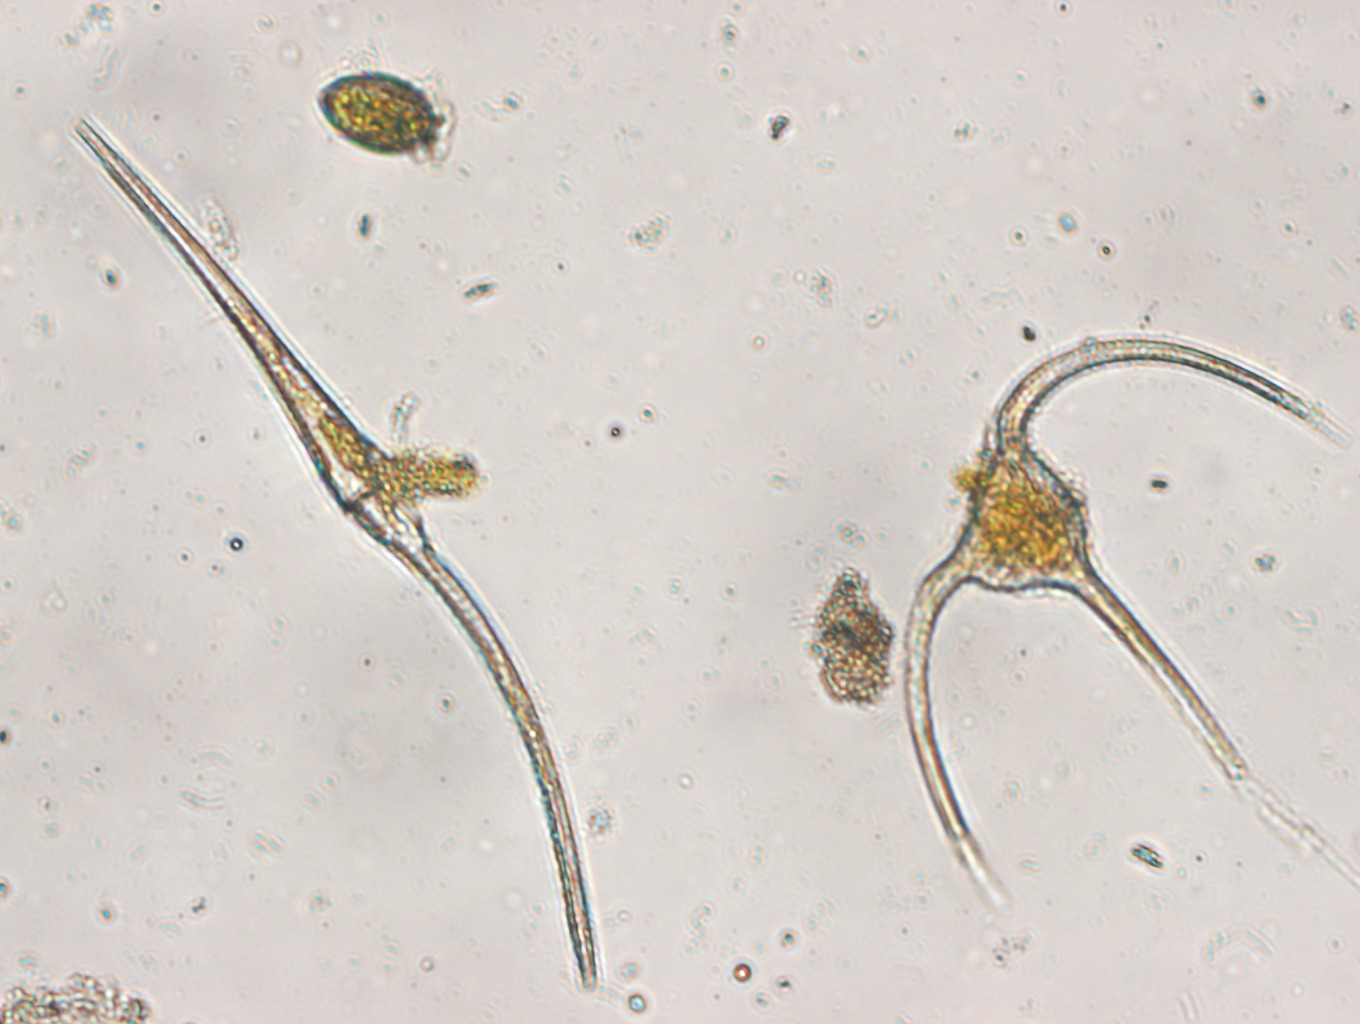ceratium fusus: (66, 115, 609, 999)
ceratium trichoceros: (897, 328, 1350, 934)
